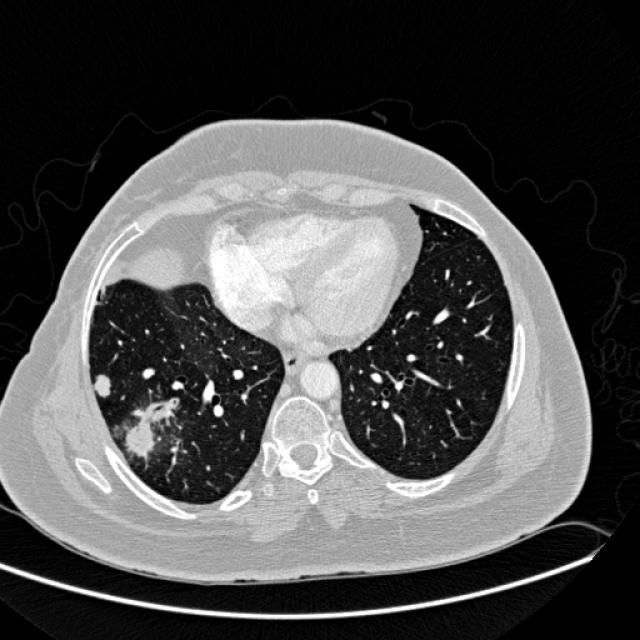nodule: (110, 405, 172, 467)
